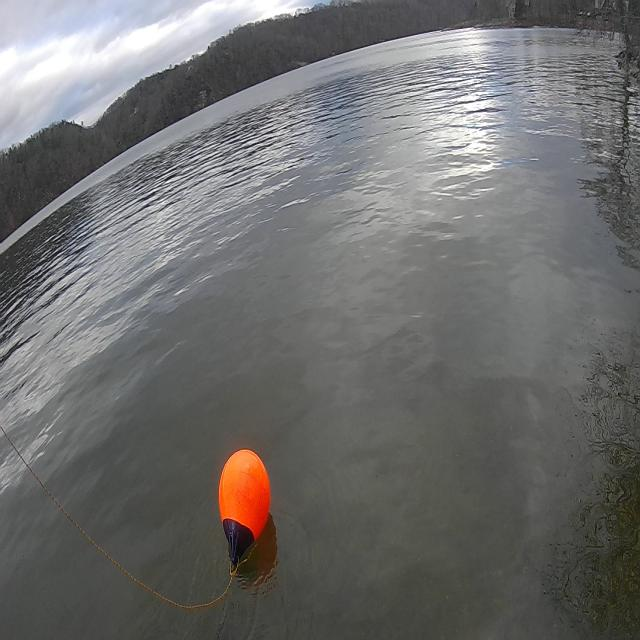Buoy: (216, 446, 274, 570)
